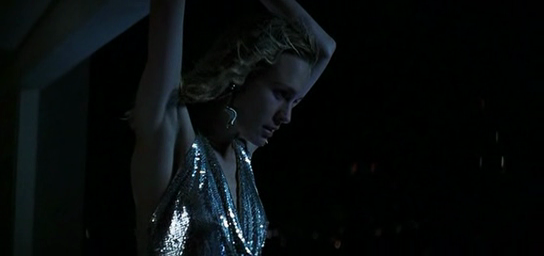face: (239, 71, 312, 146)
mcu: (1, 1, 544, 256)
person: (130, 1, 337, 256)
